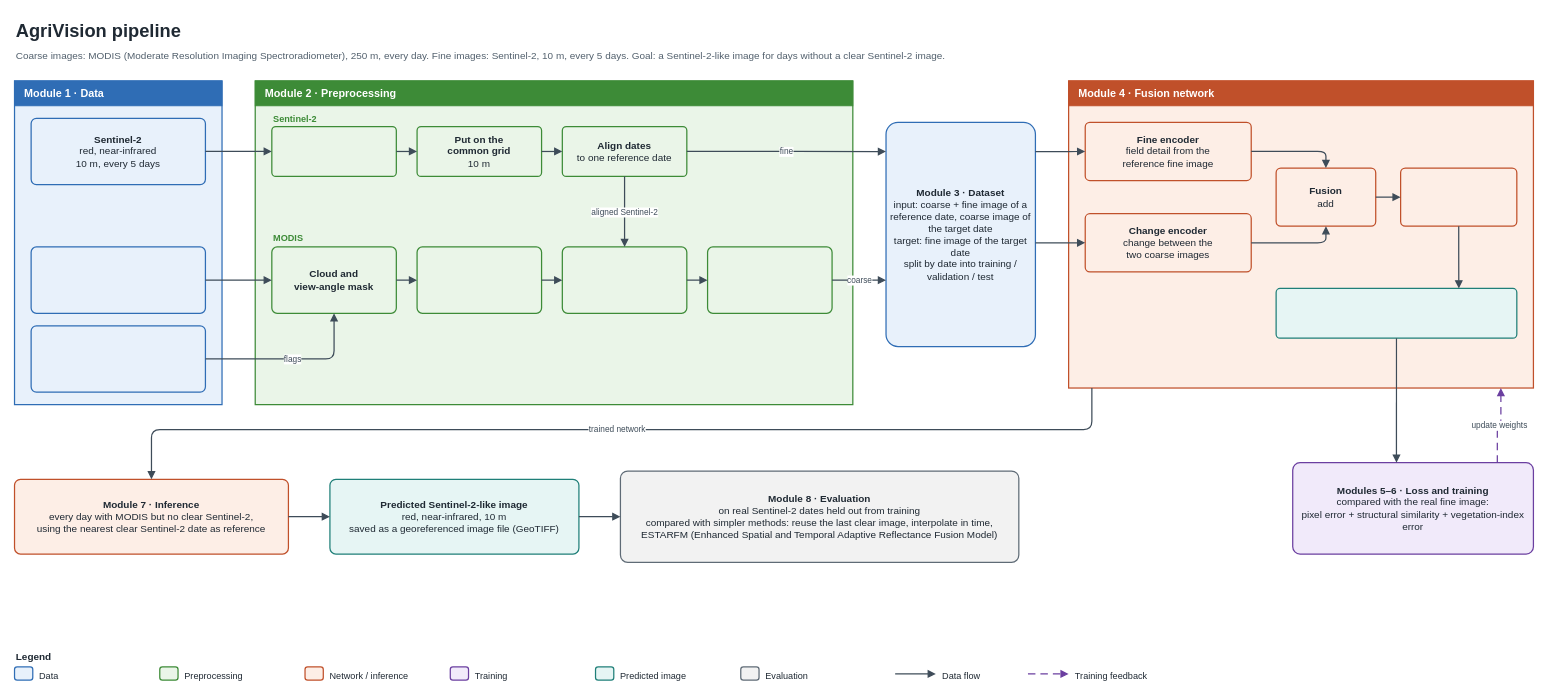
Some shapes in this 1549 by 696 pixel diagram are drawn without their labels. The shapes that lost their labels are listed below. From the top down, each one's centre as x and y in pixels, then its label:
At point (334, 151): "Cloud mask".
At point (1458, 196): "Decoder back to red, near-infrared".
At point (118, 280): "MODIS reflectance red, near-infrared 250 m, every day".
At point (479, 280): "Put on the common grid 250 m and 10 m".
At point (624, 280): "Estimate on clear days, at 250 m: position offset, blur, band-matching factors".
At point (769, 280): "Apply at 10 m, every day: shift into place, match bands".
At point (1396, 312): "Predicted fine image".
At point (118, 358): "MODIS quality data cloud flags, view angle".
